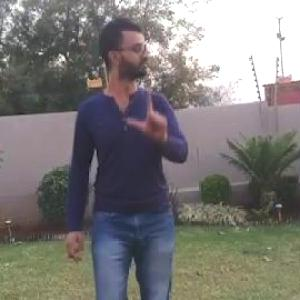land_hand: (125, 78, 171, 144)
